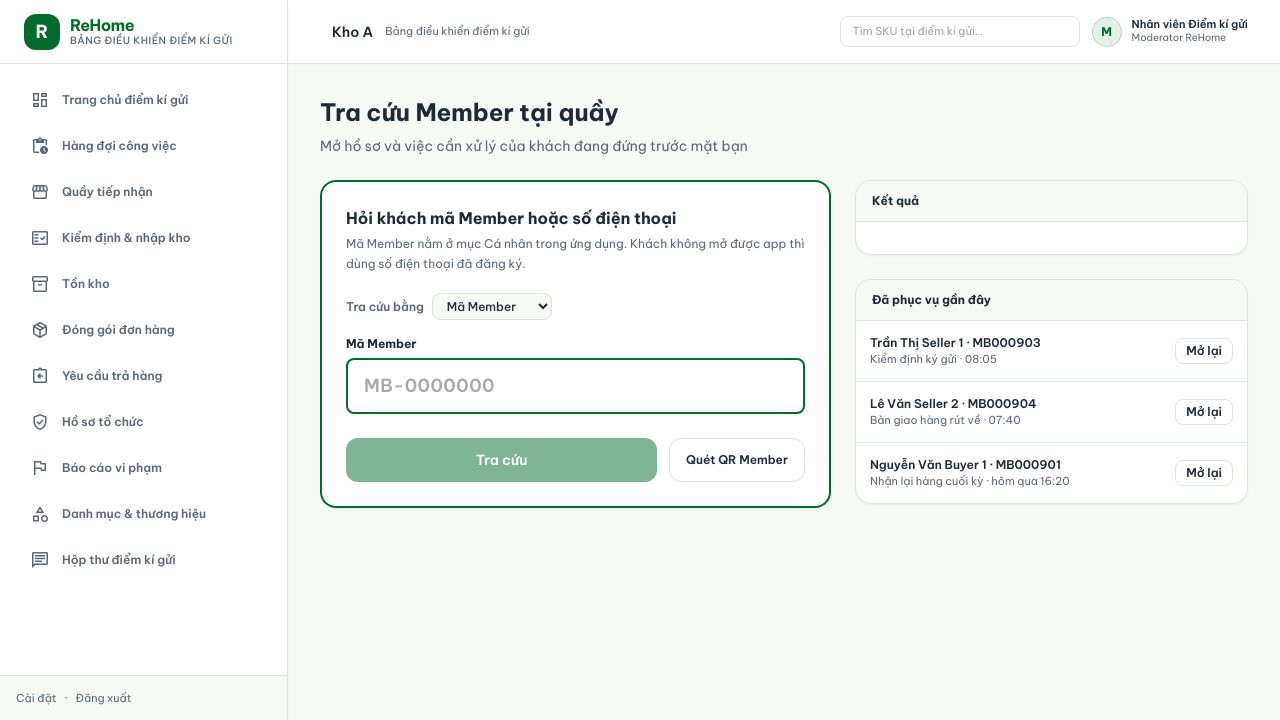
Member selection › renders all three task groups and executes counter handover upon confirmation
Type "MB-001" into the field labelled "Mã Member" at [576, 386], box [346,358,805,414]
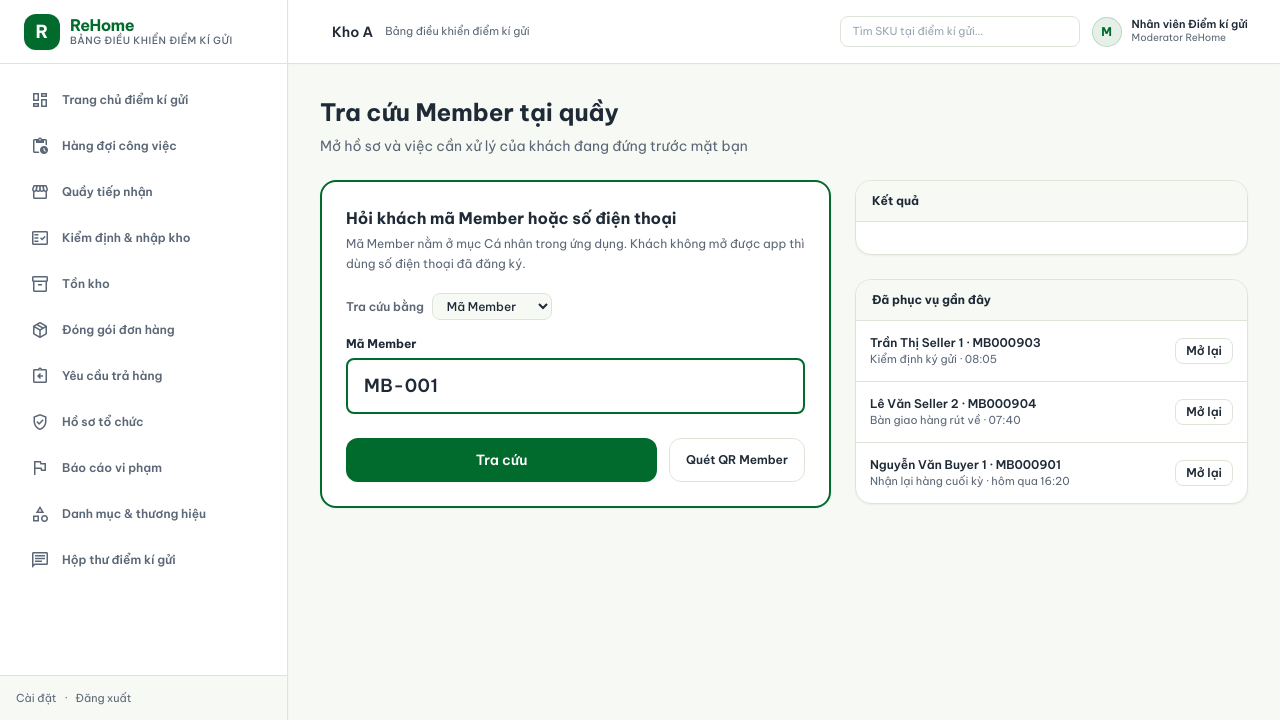
Click the button "Tra cứu" at [502, 460], box [346,438,657,482]
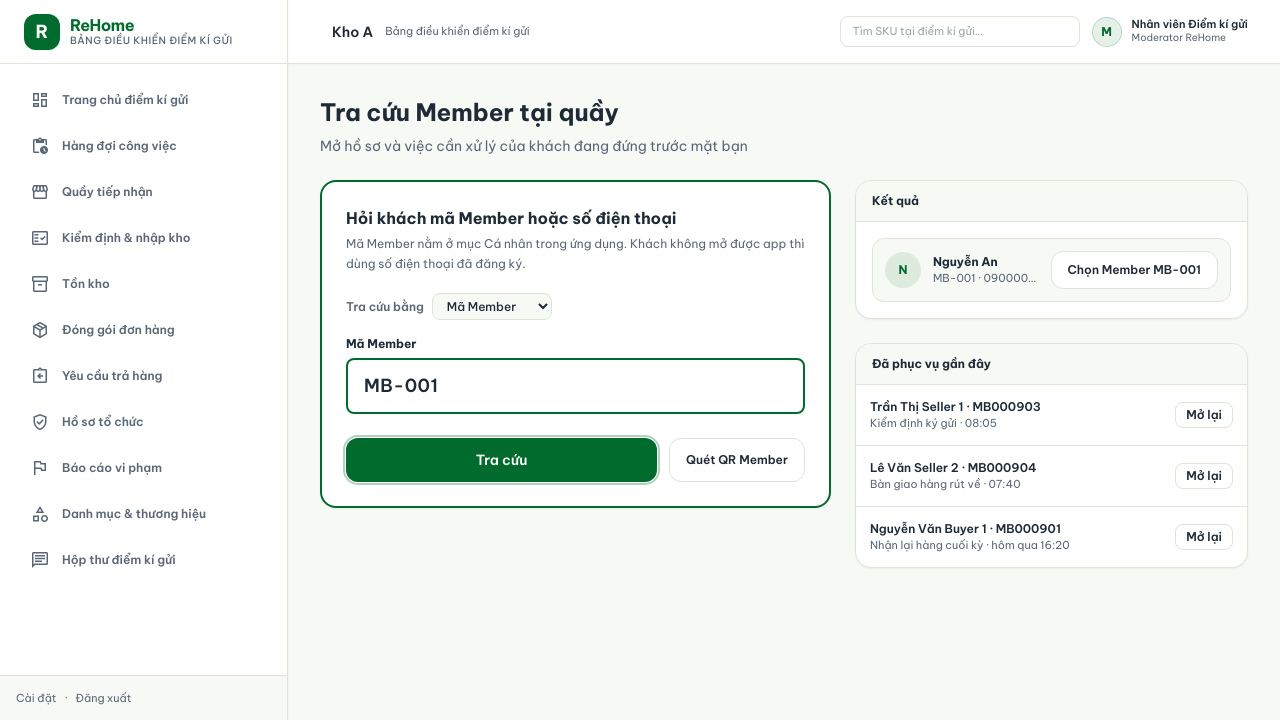
Click the button "Chọn Member MB-001" at [1134, 270], box [1050,251,1218,289]
(page scrolled)
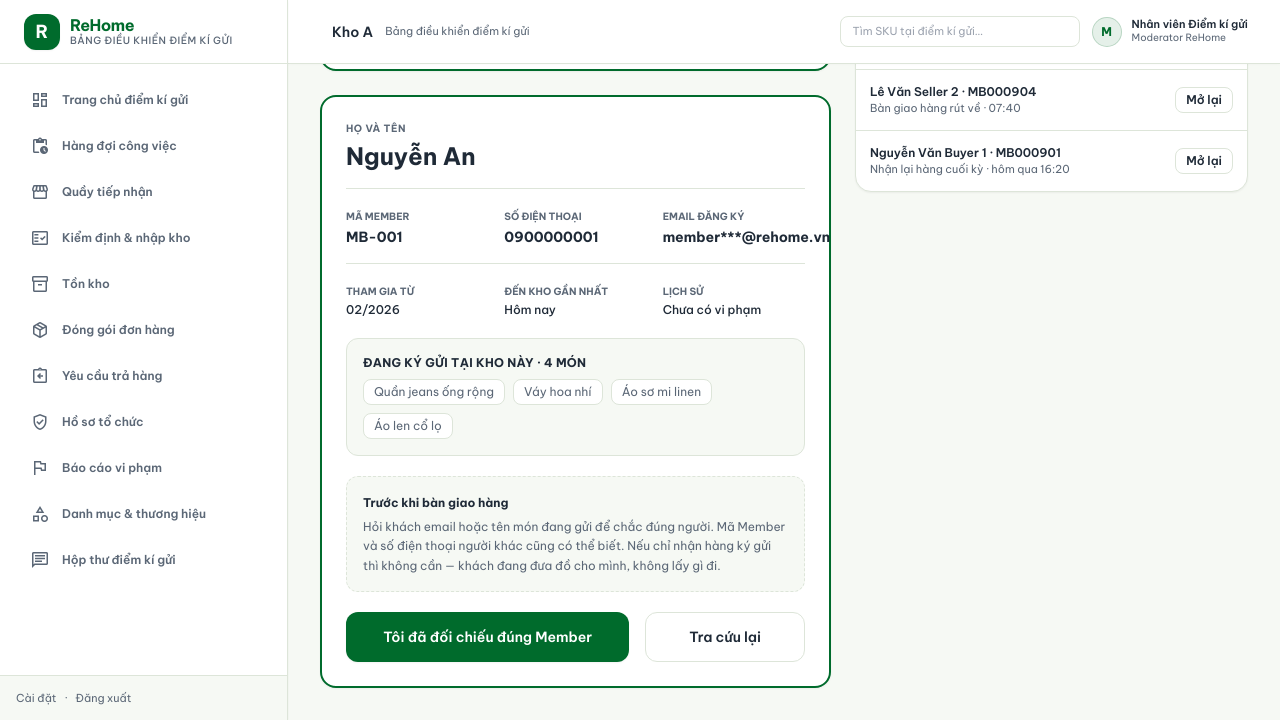
Click the button "Tôi đã đối chiếu đúng Member" at [488, 637], box [346,612,629,662]
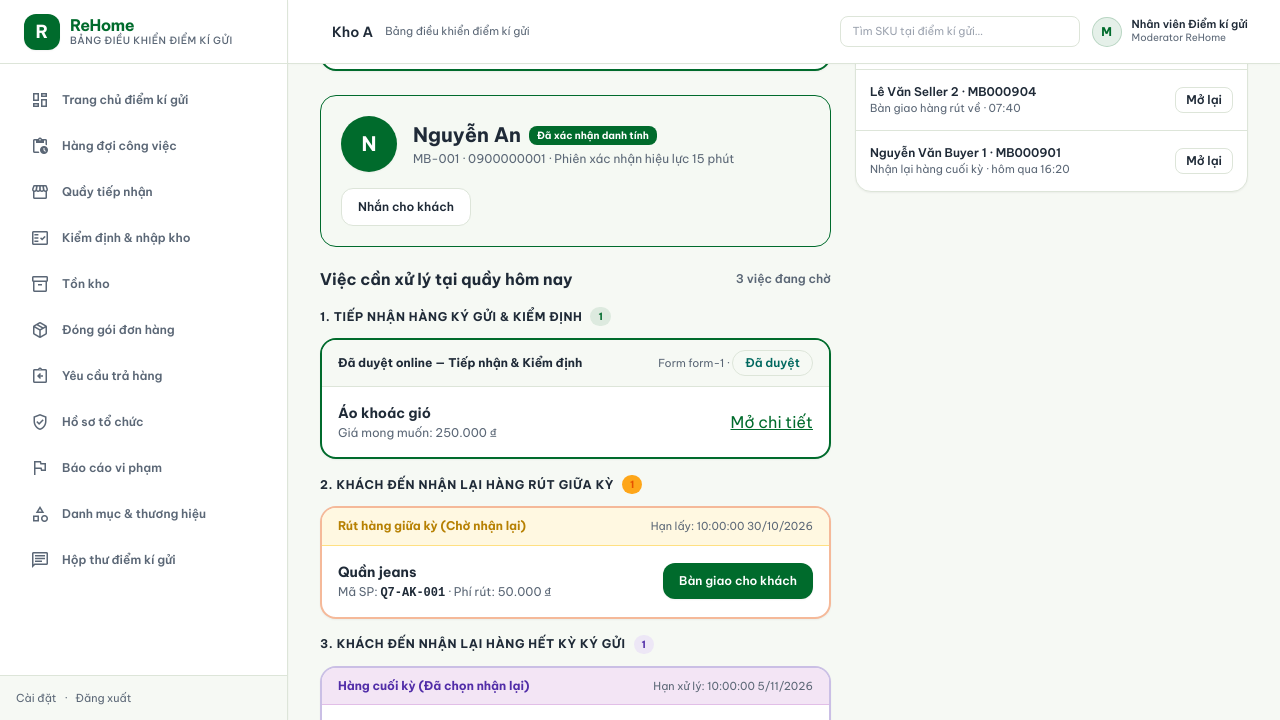
Expected: the heading "1. Tiếp nhận hàng ký gửi & Kiểm định" is shown, [320,308,582,324]
Expected: the text "Áo khoác gió" is shown, [338,404,431,422]
Expected: the heading "2. Khách đến nhận lại hàng rút giữa kỳ" is shown, [320,476,614,492]
Click the button "Bàn giao cho khách" at [738, 581], box [663,563,813,599]
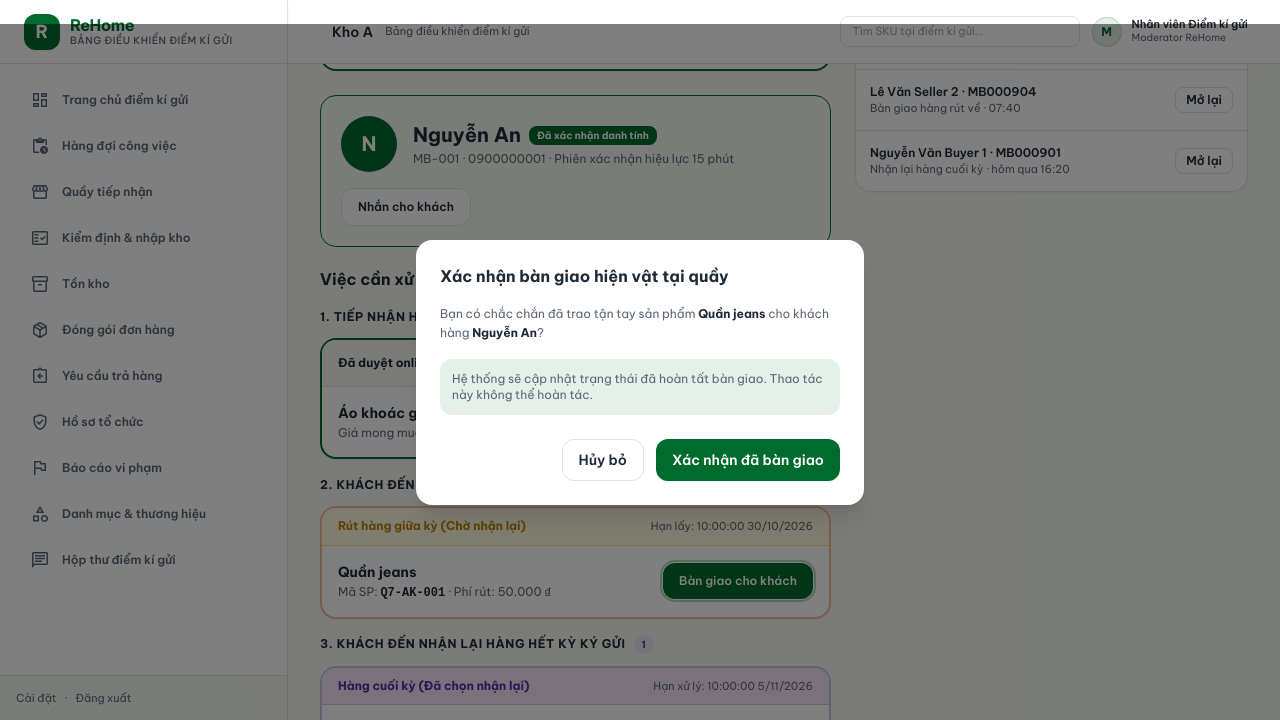
Expected: the heading "Xác nhận bàn giao hiện vật tại quầy" is shown, [440,266,729,286]
Click the button "Xác nhận đã bàn giao" at [748, 460], box [656,438,840,480]
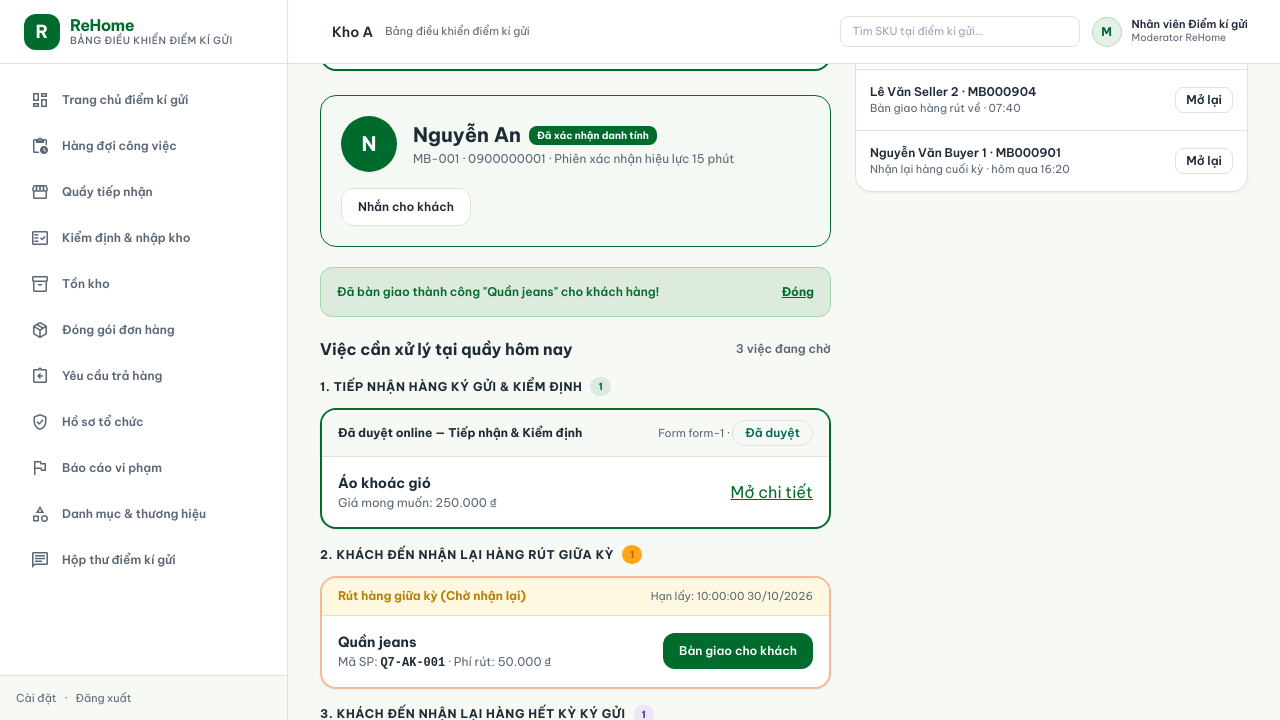
Expected: the text "Đã bàn giao thành công \"Quần jeans\" cho khách hàng!" is shown, [337,284,660,300]
